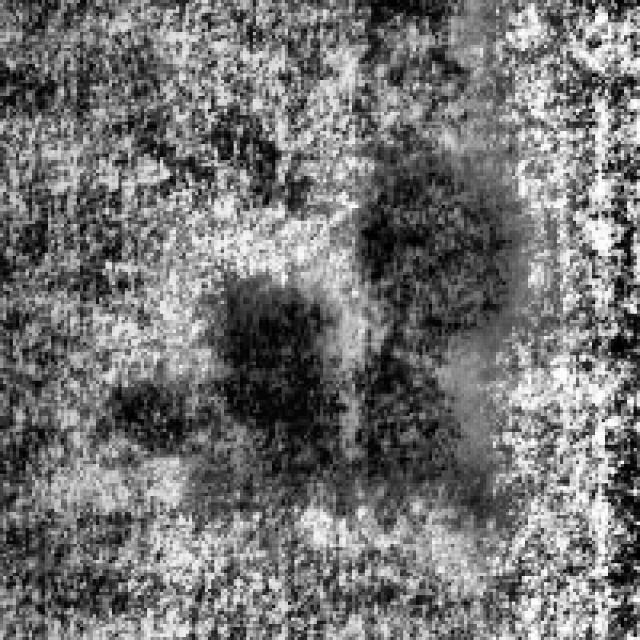Scratches: (96, 269, 333, 480), (342, 138, 522, 352), (336, 352, 477, 490)
